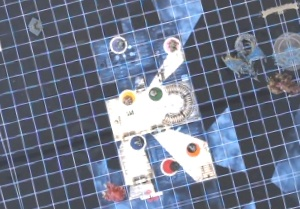blue: (123, 130, 148, 153)
green: (143, 82, 169, 107)
orange: (181, 139, 204, 159)
pink: (159, 31, 184, 57)
red: (157, 154, 181, 180)
violet: (104, 32, 130, 56)
yellow: (115, 86, 136, 108)
